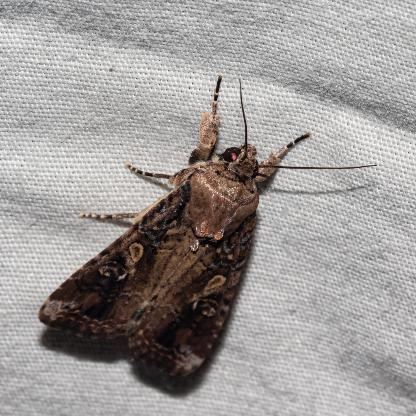Fall Armyworm Moth: (34, 72, 380, 398)
